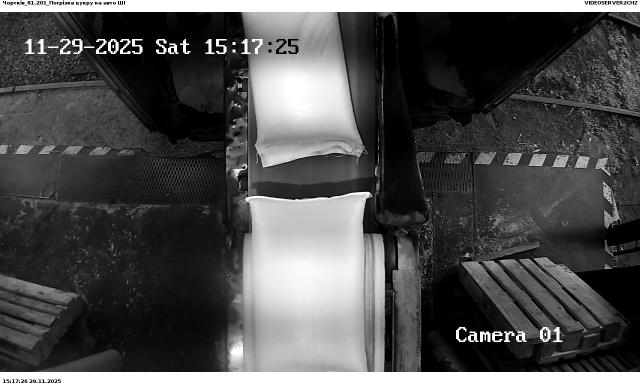bag: (244, 192, 373, 372), (243, 12, 365, 167)
